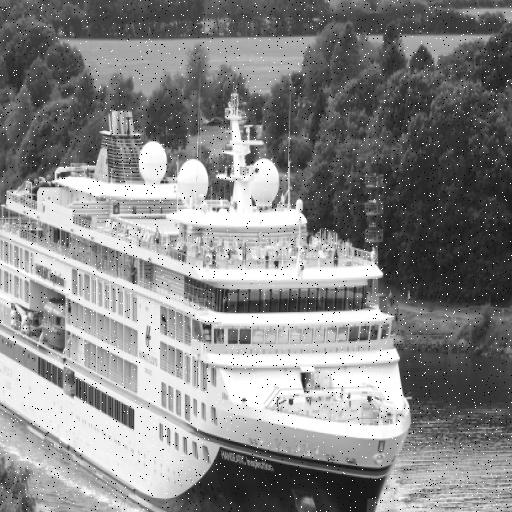cruises: (1, 86, 418, 512)
